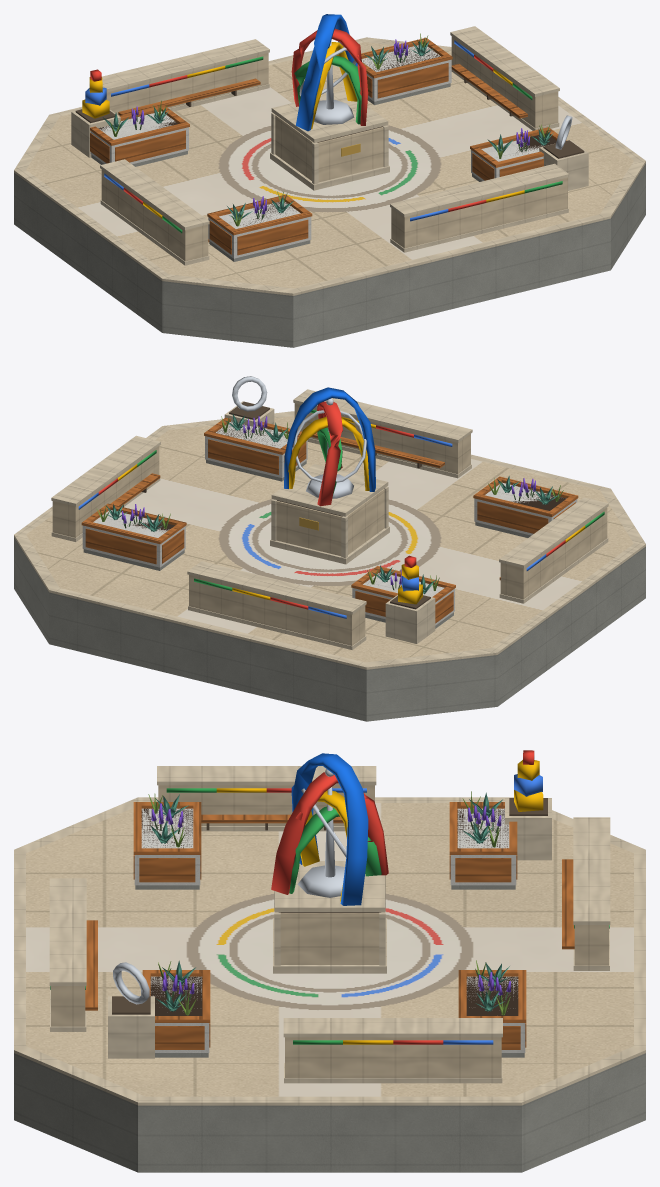
Rendered from park_art_garden.glb.
3 views of the same model, one above another, from view 1: azimuth 30°, elevation 25°; view 2: azimuth 150°, elevation 25°; view 3: azimuth 270°, elevation 25° (orthographic). The views are drawn at different scales.
Visible parts, largest first — view 1: ArtGarden_plaza, ArtGarden_conc_skirt, ArtGarden_travertine, ArtGarden_limestone, ArtGarden_cedar, ArtGarden_conc_white, ArtGarden_g_blue_deep, ArtGarden_g_red, ArtGarden_g_yellow, ArtGarden_steel_brushed, ArtGarden_g_green, ArtGarden_agave (+5 smaller); view 2: ArtGarden_plaza, ArtGarden_conc_skirt, ArtGarden_travertine, ArtGarden_limestone, ArtGarden_cedar, ArtGarden_conc_white, ArtGarden_g_red, ArtGarden_g_yellow, ArtGarden_g_blue_deep, ArtGarden_steel_brushed, ArtGarden_agave, ArtGarden_mulch (+5 smaller); view 3: ArtGarden_plaza, ArtGarden_conc_skirt, ArtGarden_travertine, ArtGarden_limestone, ArtGarden_cedar, ArtGarden_conc_white, ArtGarden_mulch, ArtGarden_g_blue_deep, ArtGarden_g_red, ArtGarden_steel_brushed, ArtGarden_g_yellow, ArtGarden_g_green (+5 smaller).
Part boxes in pixels (<box>): ArtGarden_plaza: <box>26,42,633,288</box>; ArtGarden_conc_skirt: <box>14,83,645,347</box>; ArtGarden_travertine: <box>14,26,645,295</box>; ArtGarden_limestone: <box>101,36,567,261</box>; ArtGarden_cedar: <box>90,37,566,255</box>; ArtGarden_conc_white: <box>90,44,544,258</box>; ArtGarden_g_blue_deep: <box>296,14,357,131</box>; ArtGarden_g_red: <box>90,28,493,211</box>; ArtGarden_g_yellow: <box>82,42,524,218</box>; ArtGarden_steel_brushed: <box>299,40,572,149</box>; ArtGarden_g_green: <box>162,55,562,233</box>; ArtGarden_agave: <box>103,40,553,220</box>; ArtGarden_plaza: <box>26,416,633,662</box>; ArtGarden_conc_skirt: <box>14,459,645,721</box>; ArtGarden_travertine: <box>14,389,645,669</box>; ArtGarden_limestone: <box>52,403,607,645</box>; ArtGarden_cedar: <box>81,417,578,623</box>; ArtGarden_conc_white: <box>82,421,577,625</box>; ArtGarden_g_red: <box>98,401,565,609</box>; ArtGarden_g_yellow: <box>118,416,585,604</box>; ArtGarden_g_blue_deep: <box>284,387,375,491</box>; ArtGarden_steel_brushed: <box>232,376,366,498</box>; ArtGarden_agave: <box>105,414,558,594</box>; ArtGarden_mulch: <box>127,421,566,578</box>; ArtGarden_plaza: <box>26,803,633,1096</box>; ArtGarden_conc_skirt: <box>14,885,645,1172</box>; ArtGarden_travertine: <box>14,766,645,1105</box>; ArtGarden_limestone: <box>51,785,608,1077</box>; ArtGarden_cedar: <box>85,802,574,1049</box>; ArtGarden_conc_white: <box>134,808,525,1052</box>; ArtGarden_mulch: <box>141,808,518,1015</box>; ArtGarden_g_blue_deep: <box>291,753,368,905</box>; ArtGarden_g_red: <box>266,750,534,1044</box>; ArtGarden_steel_brushed: <box>113,769,346,1004</box>; ArtGarden_g_yellow: <box>216,760,543,1044</box>; ArtGarden_g_green: <box>50,788,609,1044</box>.
Bounding box in the file's own units: 16 × 6.42 × 14.
Materials: 19 (6 with a texture image).
